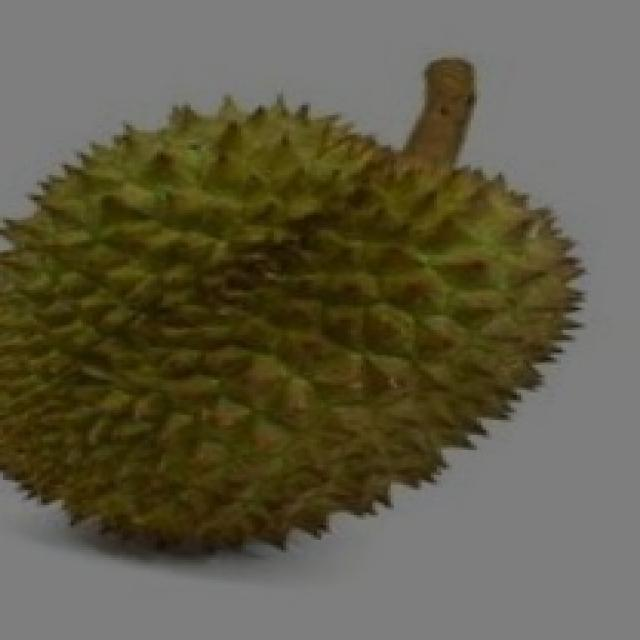fruit: (0, 217, 378, 602)
